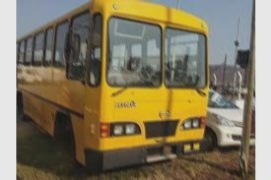bus: (19, 4, 210, 171)
